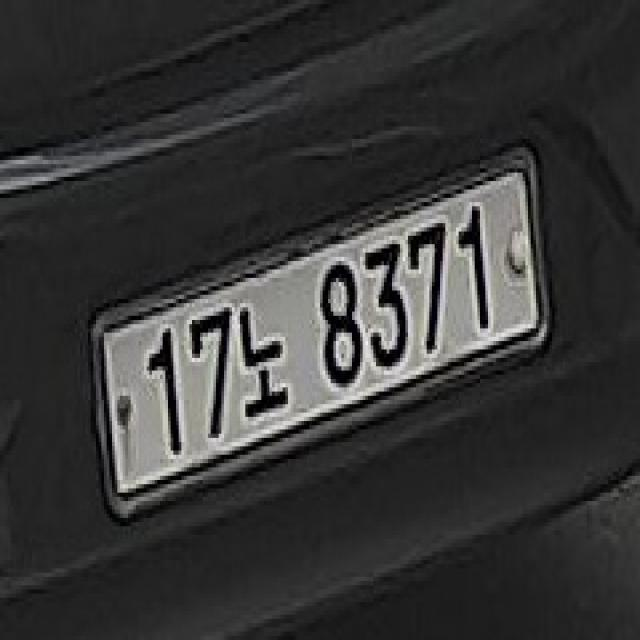1: (453, 194, 504, 345), (149, 324, 184, 468)
3: (365, 236, 411, 383)
7: (184, 299, 235, 455), (408, 223, 451, 362)
8: (317, 248, 363, 400)
license_plate: (85, 130, 552, 530)
no: (232, 282, 293, 425)
